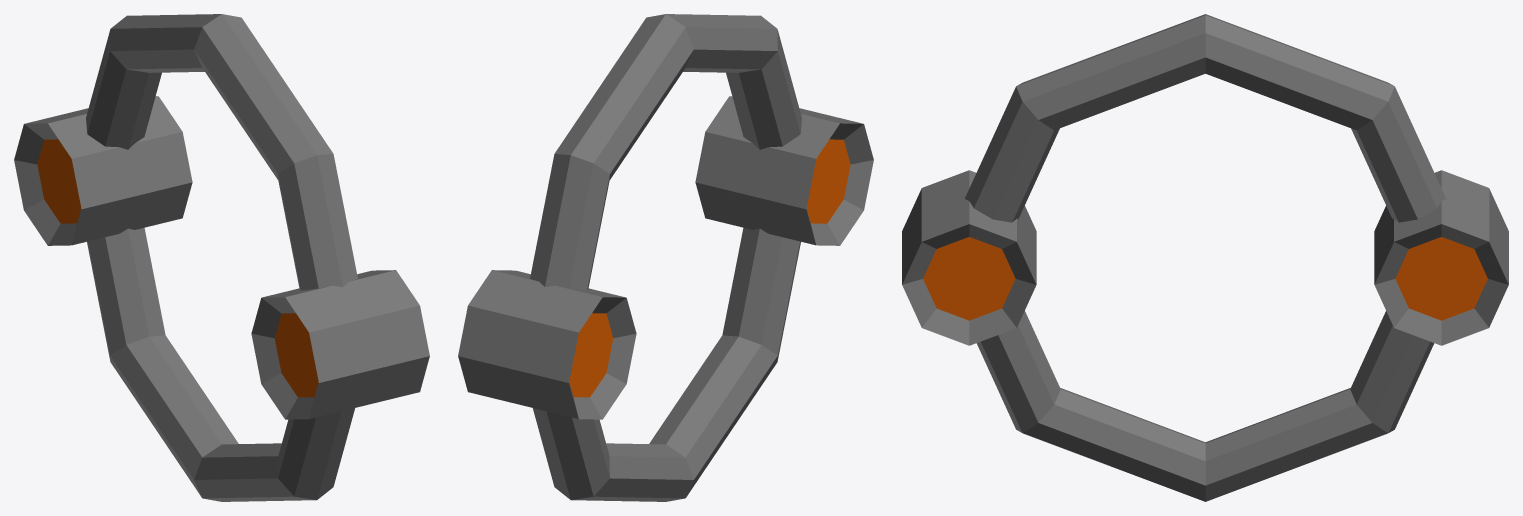
The model's file is Terrain_Ring.fbx.
3 renders of one model, left to right at view 1: azimuth 30°, elevation 25°; view 2: azimuth 150°, elevation 25°; view 3: azimuth 270°, elevation 25°, orthographic.
Parts seen in each view (by area): view 1: Ring; view 2: Ring; view 3: Ring.
Part boxes in pixels (x1=…): Ring: x1=14, y1=14, x2=429, y2=501; Ring: x1=458, y1=14, x2=873, y2=501; Ring: x1=902, y1=14, x2=1508, y2=501.
Size of the model in its own units: 2.2 by 9.22 by 10.45.
